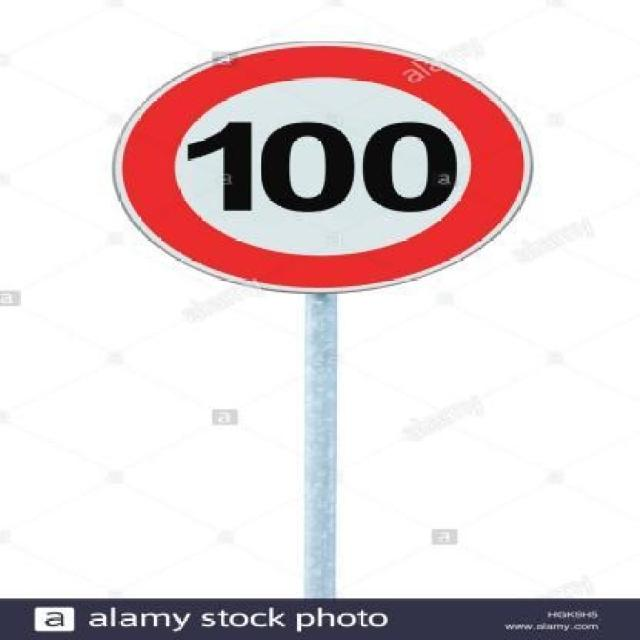forb_speed_over_100: (123, 42, 531, 290)
